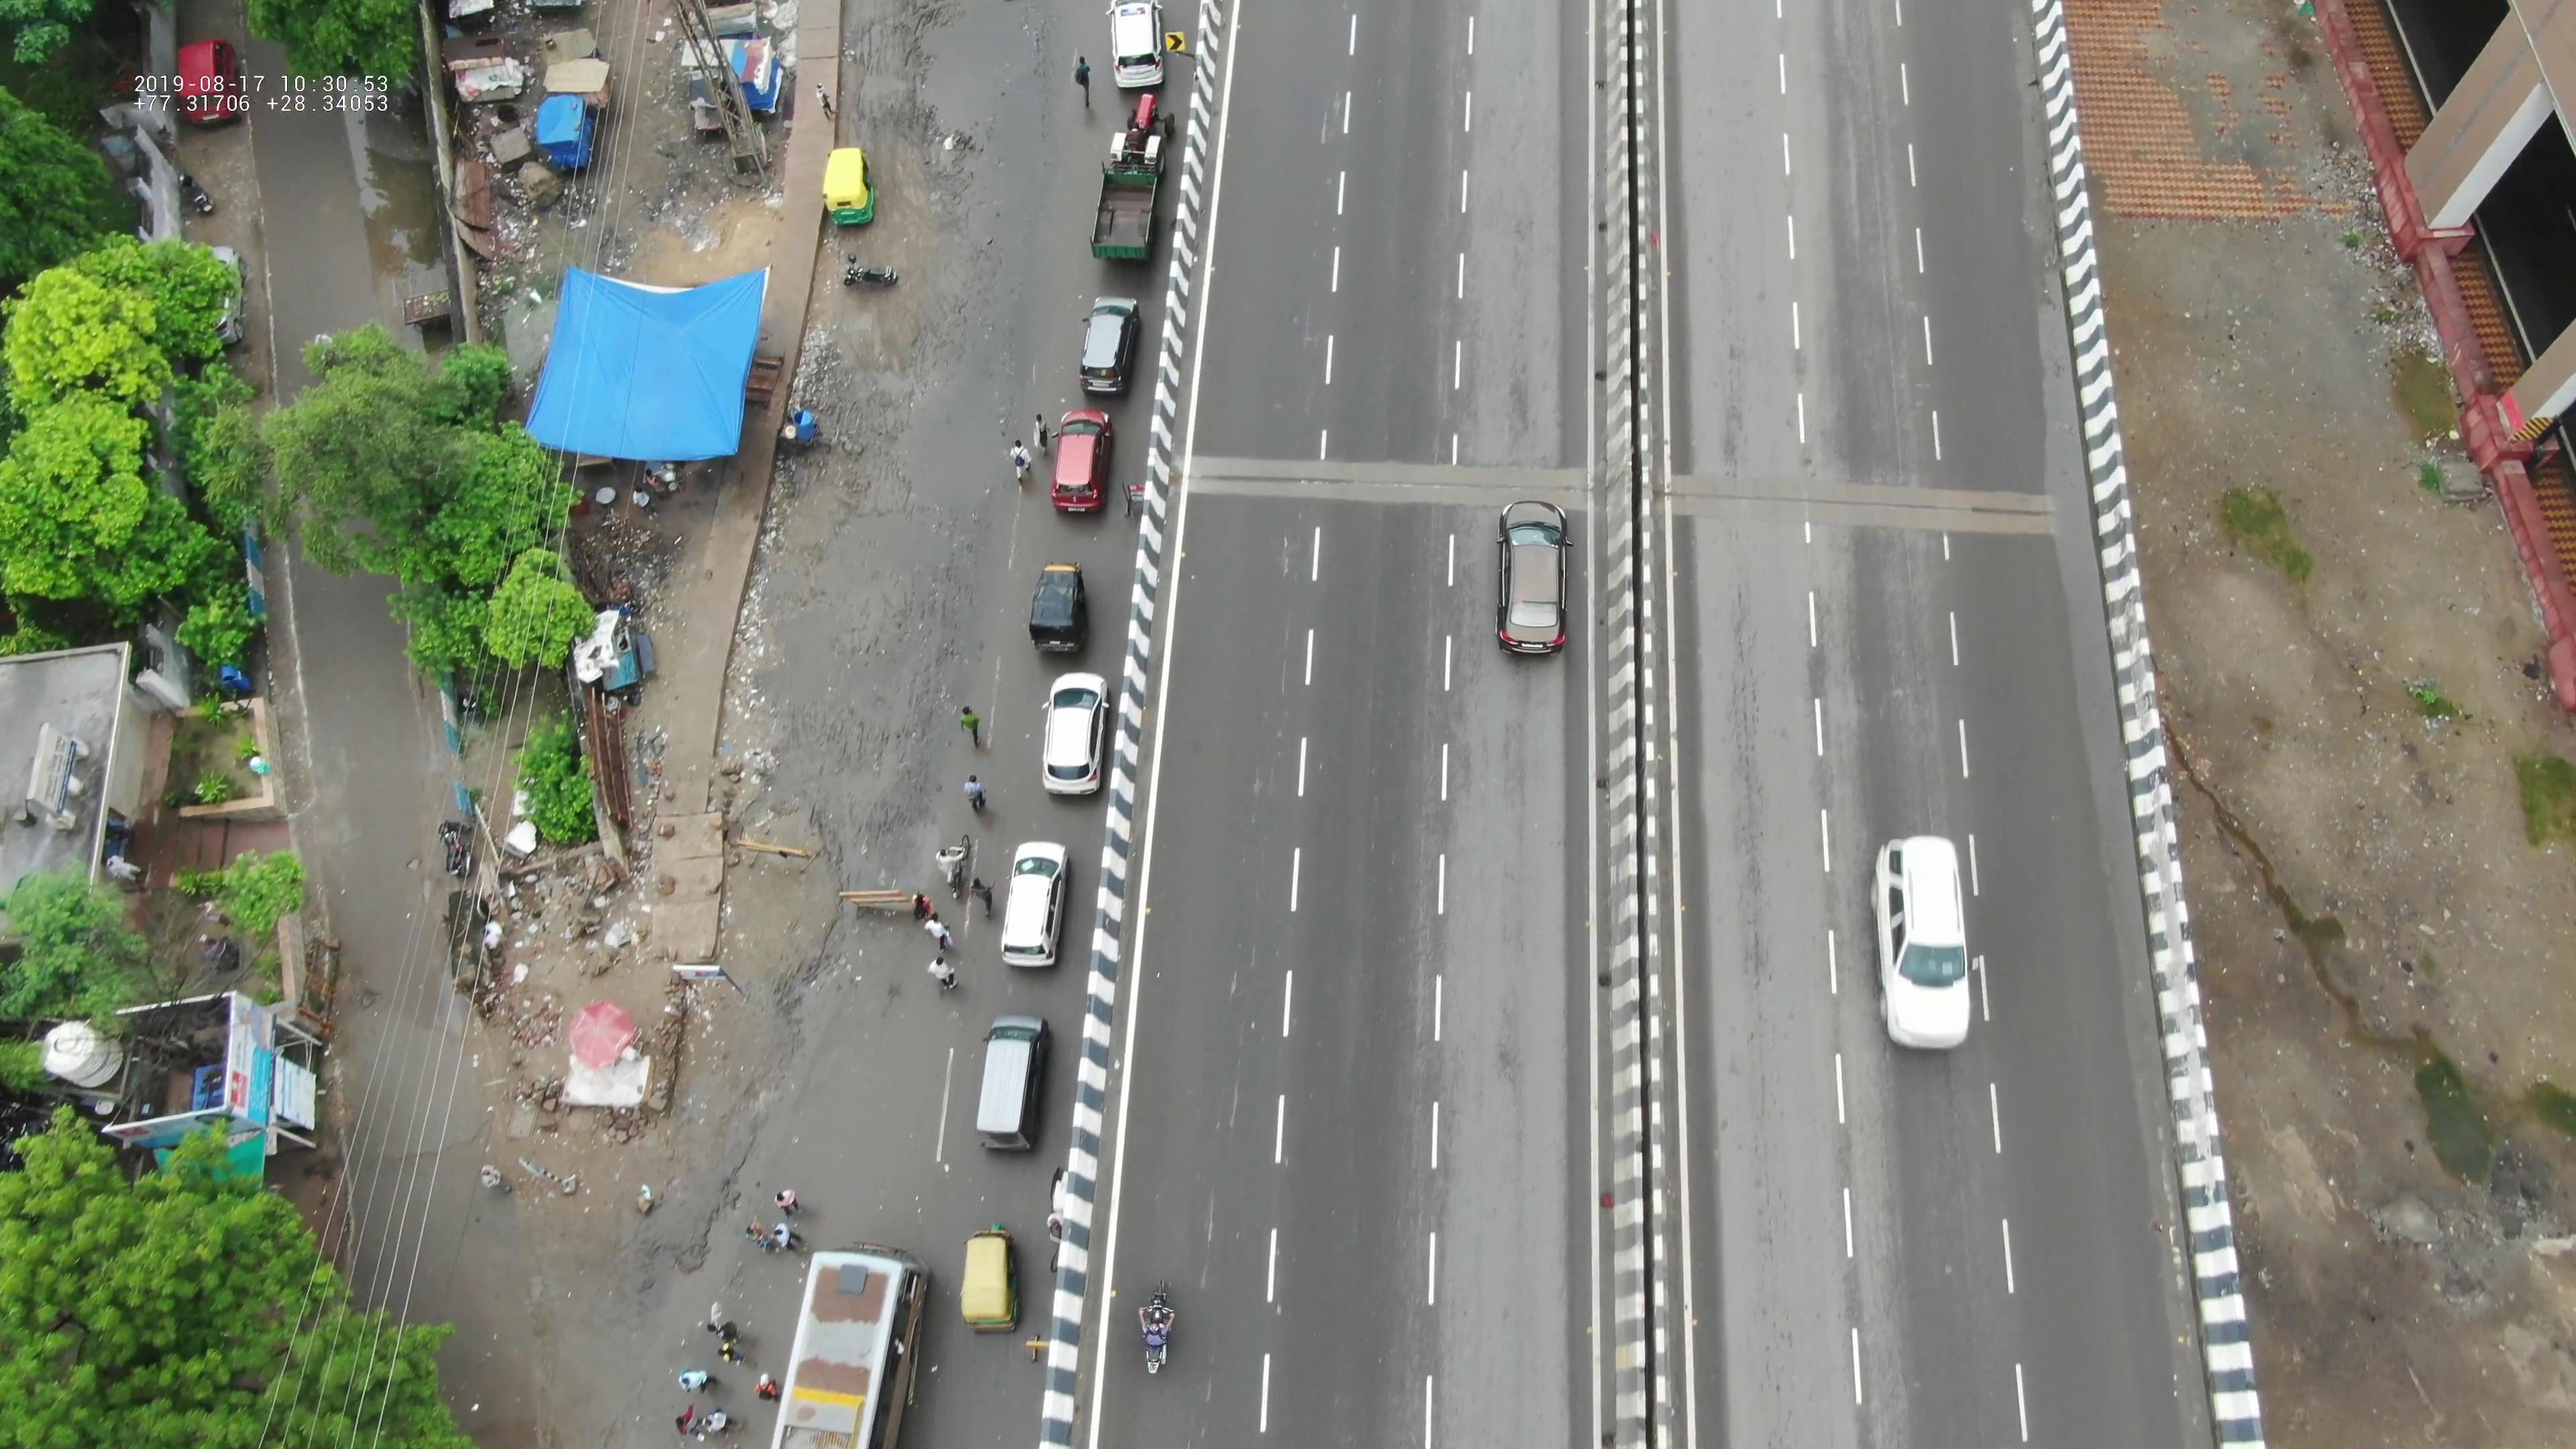Ravelling: (1729, 610, 1789, 971), (1178, 1161, 1238, 1288)
